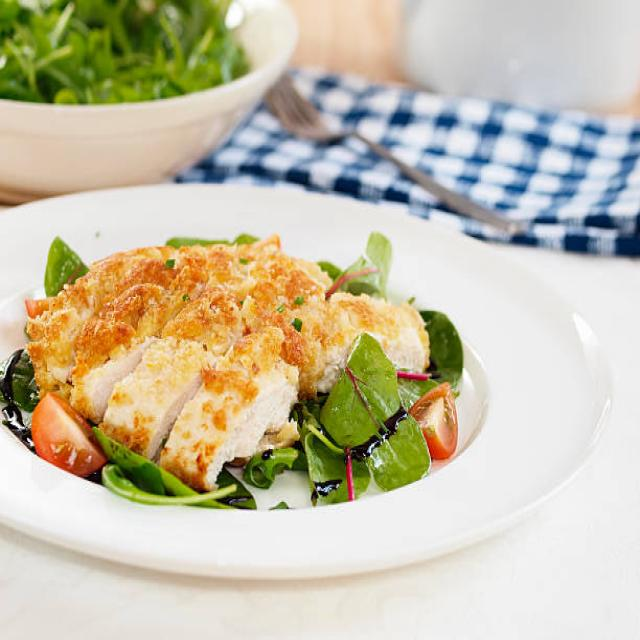Frango: (9, 234, 430, 495)
